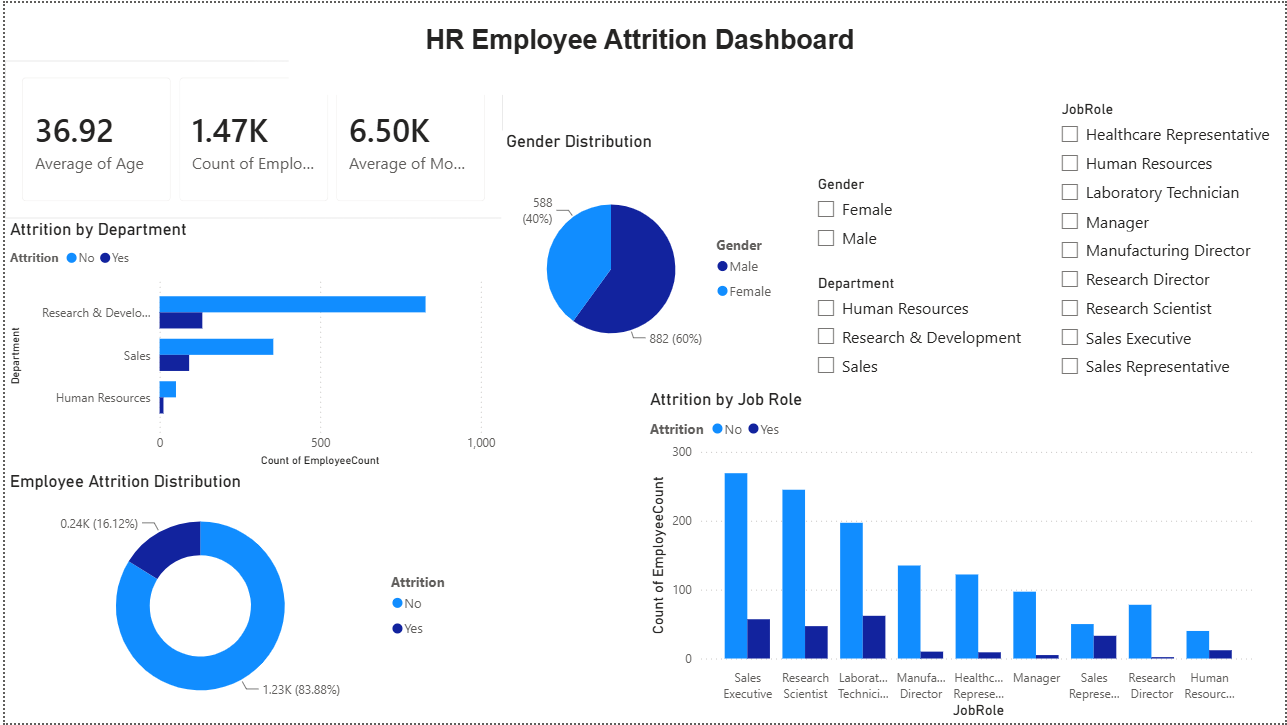

The page's visual inventory and layout, read from the dashboard file:
{"tool":"powerbi","page":{"name":"Page 1","canvas":[1280,720],"ordinal":0},"visuals":[{"type":"donutChart","title":"Employee Attrition Distribution","fields":{"Category":["WA_Fn-UseC_-HR-Employee-Attrition.Attrition"],"Y":["CountNonNull(WA_Fn-UseC_-HR-Employee-Attrition.EmployeeCount)"]},"box":[0,468,462,252],"z":0},{"type":"cardVisual","fields":{"Data":["Avg(WA_Fn-UseC_-HR-Employee-Attrition.Age)","CountNonNull(WA_Fn-UseC_-HR-Employee-Attrition.EmployeeCount)","Avg(WA_Fn-UseC_-HR-Employee-Attrition.MonthlyIncome)"]},"box":[0,58,498,158],"z":1000},{"type":"clusteredBarChart","title":"Attrition by Department","fields":{"Category":["WA_Fn-UseC_-HR-Employee-Attrition.Department"],"Y":["CountNonNull(WA_Fn-UseC_-HR-Employee-Attrition.EmployeeCount)"],"Series":["WA_Fn-UseC_-HR-Employee-Attrition.Attrition"]},"box":[0,216,496,252],"z":2000},{"type":"clusteredColumnChart","title":"Attrition by Job Role","fields":{"Category":["WA_Fn-UseC_-HR-Employee-Attrition.JobRole"],"Y":["CountNonNull(WA_Fn-UseC_-HR-Employee-Attrition.EmployeeCount)"],"Series":["WA_Fn-UseC_-HR-Employee-Attrition.Attrition"]},"box":[640,386,616,334],"z":3000},{"type":"pieChart","title":"Gender Distribution","fields":{"Category":["WA_Fn-UseC_-HR-Employee-Attrition.Gender"],"Y":["CountNonNull(WA_Fn-UseC_-HR-Employee-Attrition.EmployeeCount)"]},"box":[496,128,286,258],"z":4000},{"type":"slicer","fields":{"Values":["WA_Fn-UseC_-HR-Employee-Attrition.Department"]},"box":[800,266,234,120],"z":5000},{"type":"slicer","fields":{"Values":["WA_Fn-UseC_-HR-Employee-Attrition.Gender"]},"box":[800,168,186,90],"z":6000},{"type":"slicer","fields":{"Values":["WA_Fn-UseC_-HR-Employee-Attrition.JobRole"]},"box":[1044,92,236,294],"z":7000},{"type":"textbox","box":[284,18,702,74],"z":7001},{"type":"textbox","box":[496,468,150,252],"z":7002}]}

Visuals, with their boxes in screenshot pixels (x1, y1, x2, y2), scaled from the page's 1280x720 canvas onto the 1287x725 screenshot:
"Employee Attrition Distribution" donutChart: {"x1": 0, "y1": 471, "x2": 465, "y2": 724}
cardVisual - Avg(WA_Fn-UseC_-HR-Employee-Attrition.Age) x CountNonNull(WA_Fn-UseC_-HR-Employee-Attrition.EmployeeCount): {"x1": 0, "y1": 58, "x2": 501, "y2": 218}
"Attrition by Department" clusteredBarChart: {"x1": 0, "y1": 218, "x2": 499, "y2": 471}
"Attrition by Job Role" clusteredColumnChart: {"x1": 644, "y1": 389, "x2": 1263, "y2": 724}
"Gender Distribution" pieChart: {"x1": 499, "y1": 129, "x2": 786, "y2": 389}
slicer - WA_Fn-UseC_-HR-Employee-Attrition.Department: {"x1": 804, "y1": 268, "x2": 1040, "y2": 389}
slicer - WA_Fn-UseC_-HR-Employee-Attrition.Gender: {"x1": 804, "y1": 169, "x2": 991, "y2": 260}
slicer - WA_Fn-UseC_-HR-Employee-Attrition.JobRole: {"x1": 1050, "y1": 93, "x2": 1286, "y2": 389}
textbox: {"x1": 286, "y1": 18, "x2": 991, "y2": 93}
textbox: {"x1": 499, "y1": 471, "x2": 650, "y2": 724}
